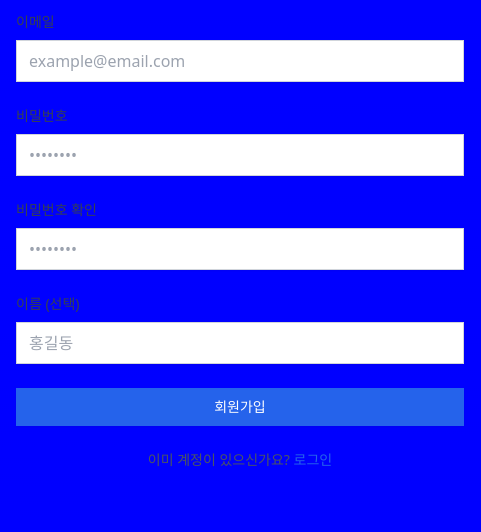
it: SignUpForm Component - TASK-009 › should show validation error for weak password
The width and height of the screenshot is (481, 532).
Type "test@example.com" into the field labelled "이메일" at (240, 61), box top-left (16, 40), bottom-right (464, 82)
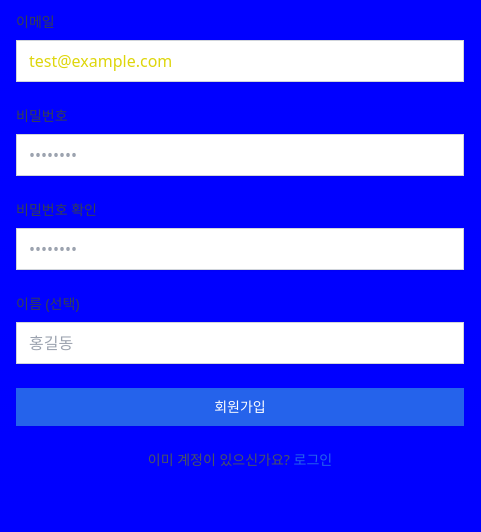
Type "weak" into the password field labelled "비밀번호" at (240, 155), box top-left (16, 134), bottom-right (464, 176)
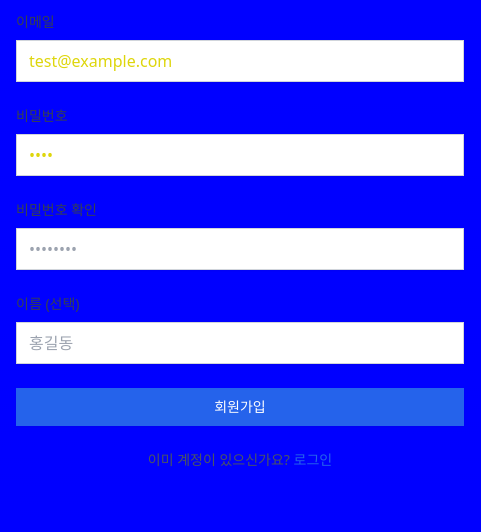
Click the button "회원가입" at (240, 407), box top-left (16, 388), bottom-right (464, 426)
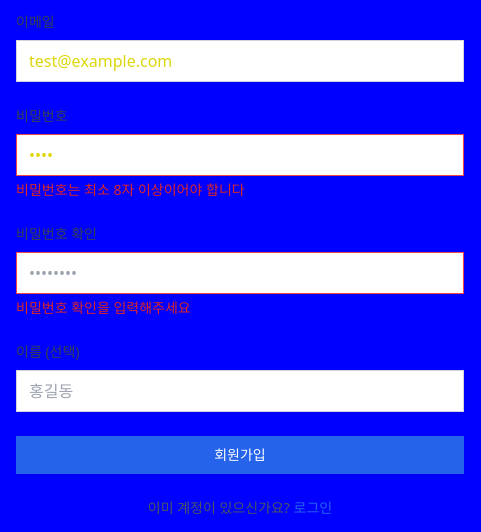
Result: the text "비밀번호는 최소 8자 이상이어야 합니다" is shown at top-left (16, 180), bottom-right (245, 199)
